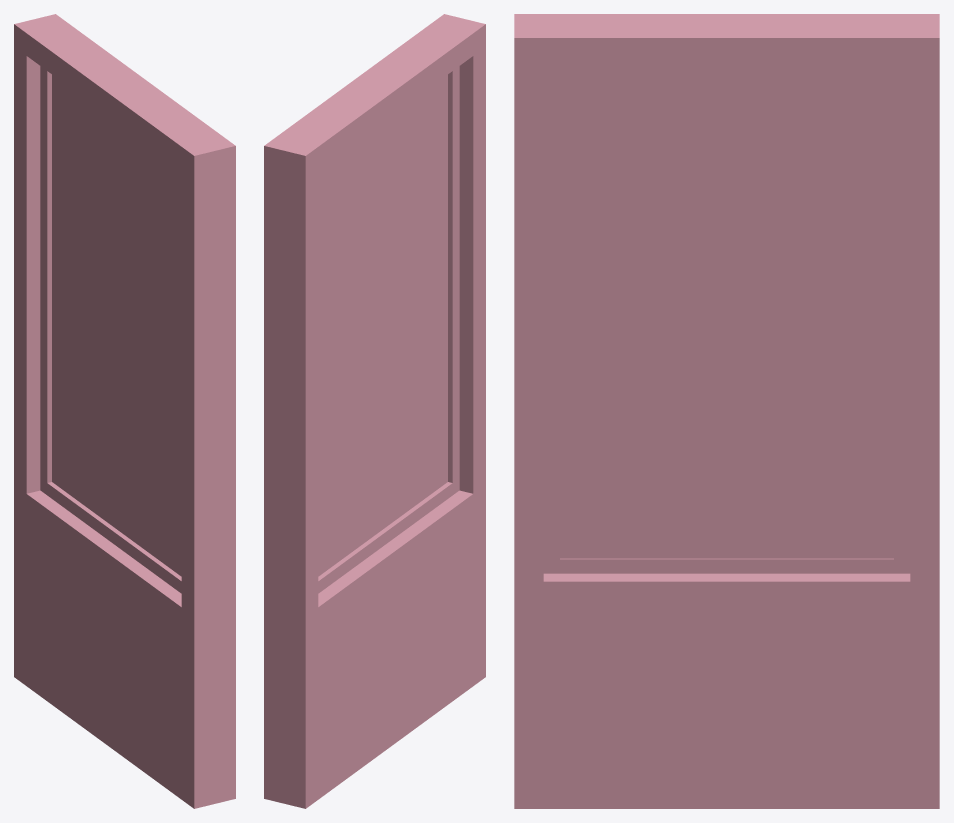
Rendered from ApartmentStructureDoor.fbx.
The picture shows the model from 3 angles, left to right: view 1: azimuth 30°, elevation 25°; view 2: azimuth 150°, elevation 25°; view 3: azimuth 270°, elevation 25°; orthographic projection. The views are drawn at different scales.
Parts seen in each view (by area): view 1: ApartmentStructureDoor; view 2: ApartmentStructureDoor; view 3: ApartmentStructureDoor.
Part boxes in pixels (x1,y1,x2,y2): ApartmentStructureDoor: [14, 14, 235, 808]; ApartmentStructureDoor: [264, 14, 485, 808]; ApartmentStructureDoor: [514, 14, 939, 808].
Bounding box in the file's own units: 20 × 300 × 150.
